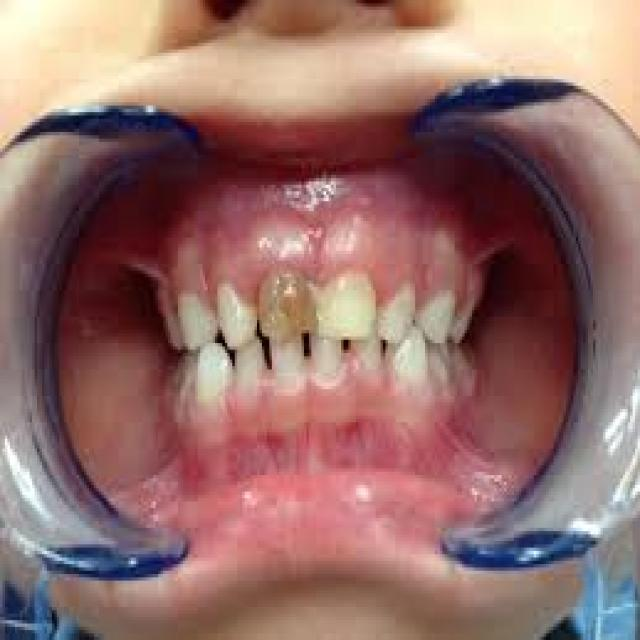Tooth Discoloration: (254, 261, 324, 343)
